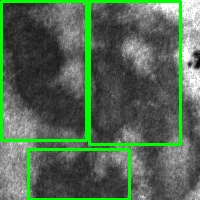patches: (89, 1, 180, 144), (1, 1, 86, 140), (28, 149, 129, 199)
